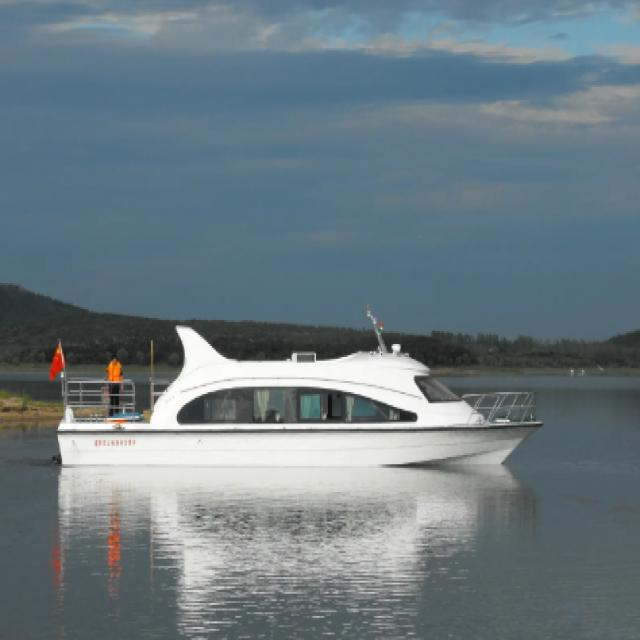houseboat: (46, 313, 545, 474)
